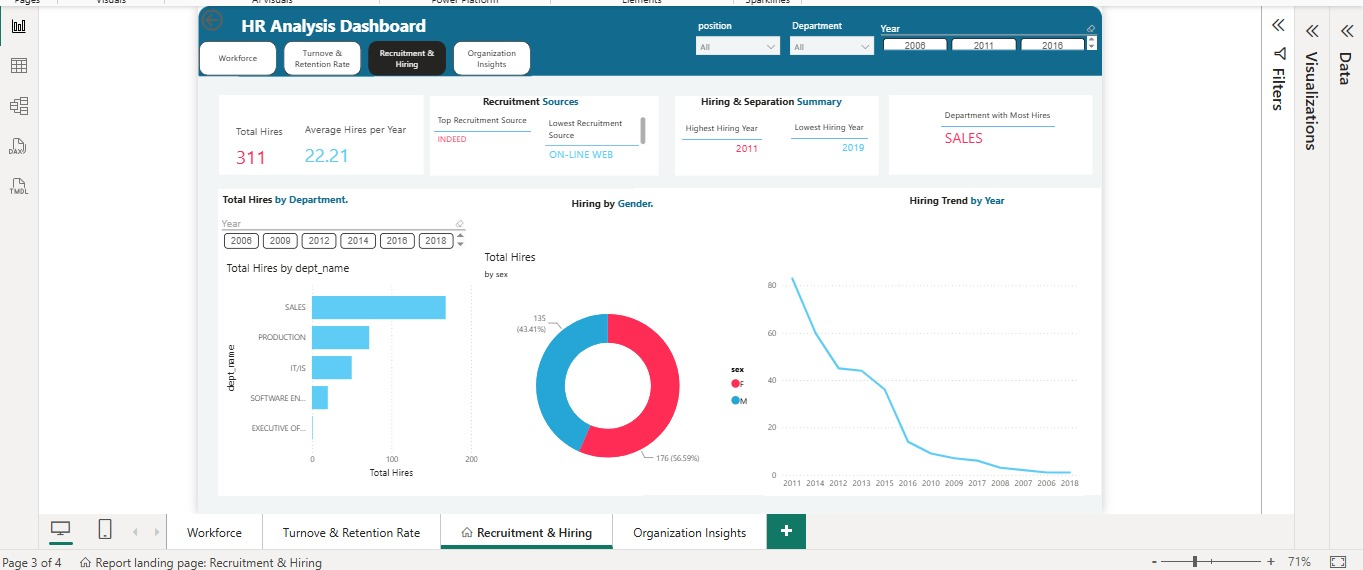

The dashboard page shown, as its layout file describes it:
{"tool":"powerbi","page":{"name":"Recruitment & Hiring","canvas":[1280,720],"ordinal":2},"visuals":[{"type":"shape","box":[618,258,661.9,435.1],"z":0},{"type":"shape","box":[28.9,258.7,602.6,435.2],"z":1000},{"type":"shape","box":[29.3,125.5,290.1,113],"z":2000},{"type":"lineChart","fields":{"Category":["Calendar_Hire.Year"],"Y":["fact_hr_snapshot.Total Hires"]},"box":[802.2,348.7,453.5,345.8],"z":3000},{"type":"donutChart","fields":{"Category":["dim_emp.sex"],"Y":["fact_hr_snapshot.Total Hires"]},"box":[384.3,348.6,398.6,345.7],"z":4000},{"type":"shape","box":[328.6,127.1,324.3,112.9],"z":5000},{"type":"shape","box":[675.7,127.1,288.6,112.9],"z":6000},{"type":"shape","box":[980,125.7,288.6,112.9],"z":7000},{"type":"Timeline1447991079100","fields":{"Time":["Calendar_Hire.Year"]},"box":[837.1,17.1,441.4,65.7],"z":8000},{"type":"textbox","box":[29.8,259.4,275,39.7],"z":9000},{"type":"textbox","box":[1003.5,260.8,276.4,39.7],"z":10000},{"type":"textbox","box":[384.3,120,174.3,40],"z":12000},{"type":"textbox","box":[680,120,264.3,40],"z":13000},{"type":"actionButton","box":[101.1,62.2,99.9,40],"z":14000},{"type":"slicer","fields":{"Values":["dim_position.position"]},"box":[514.3,14.3,138.6,71.4],"z":16000},{"type":"textbox","box":[57.2,5.6,344.5,58.6],"z":17000},{"type":"slicer","fields":{"Values":["dim_department.dept_name"]},"box":[675.7,14.3,138.6,71.4],"z":18000},{"type":"cardVisual","title":"Overall Retention Rate","fields":{"Data":["fact_hr_snapshot.Total Hires"]},"box":[22.7,158.7,161.6,76.5],"z":19000},{"type":"ChicletSlicer1448559807354","fields":{"Category":["dim_department.dept_name"]},"box":[28.6,295.7,355.7,52.9],"z":20000},{"type":"clusteredBarChart","fields":{"Category":["dim_department.dept_name"],"Y":["fact_hr_snapshot.Total Hires"]},"box":[35.7,360,365.7,314.3],"z":21000},{"type":"actionButton","box":[0,0,100,40],"z":22000},{"type":"textbox","box":[524.4,265,219.7,31.2],"z":23000},{"type":"tableEx","fields":{"Values":["fact_hr_snapshot.Highest Hiring Year"]},"box":[680,158.6,134.3,60],"z":24000},{"type":"tableEx","fields":{"Values":["fact_hr_snapshot.Lowest Hiring Year"]},"box":[834.3,157.1,130,61.4],"z":25000},{"type":"cardVisual","fields":{"Data":["fact_hr_snapshot.Average Hires per Year"]},"box":[190,160,122.9,71.4],"z":26000},{"type":"Timeline1447991079100","box":[837.1,17.1,441.4,65.7],"z":27000},{"type":"tableEx","fields":{"Values":["fact_hr_snapshot.Department with Most Hires"]},"box":[1047.1,140,188.6,71.4],"z":28000},{"type":"tableEx","fields":{"Values":["fact_hr_snapshot.Top Recruitment Source"]},"box":[485.7,151.4,154.3,77.1],"z":29000},{"type":"tableEx","fields":{"Values":["fact_hr_snapshot.Lowest Recruitment Source"]},"box":[328.6,147.1,162.9,88.6],"z":30000}]}

Visuals, with their boxes on the page's 1280x720 design canvas (x1, y1, x2, y2). These are canvas units, not pixel positions in the 1363x570 screenshot, which may show the page scaled, cropped or inside an application window:
shape: bbox(618, 258, 1280, 693)
shape: bbox(29, 259, 632, 694)
shape: bbox(29, 126, 319, 238)
lineChart - Calendar_Hire.Year x fact_hr_snapshot.Total Hires: bbox(802, 349, 1256, 694)
donutChart - dim_emp.sex x fact_hr_snapshot.Total Hires: bbox(384, 349, 783, 694)
shape: bbox(329, 127, 653, 240)
shape: bbox(676, 127, 964, 240)
shape: bbox(980, 126, 1269, 239)
Timeline1447991079100 - Calendar_Hire.Year: bbox(837, 17, 1278, 83)
textbox: bbox(30, 259, 305, 299)
textbox: bbox(1004, 261, 1280, 300)
textbox: bbox(384, 120, 559, 160)
textbox: bbox(680, 120, 944, 160)
actionButton: bbox(101, 62, 201, 102)
slicer - dim_position.position: bbox(514, 14, 653, 86)
textbox: bbox(57, 6, 402, 64)
slicer - dim_department.dept_name: bbox(676, 14, 814, 86)
"Overall Retention Rate" cardVisual: bbox(23, 159, 184, 235)
ChicletSlicer1448559807354 - dim_department.dept_name: bbox(29, 296, 384, 349)
clusteredBarChart - dim_department.dept_name x fact_hr_snapshot.Total Hires: bbox(36, 360, 401, 674)
actionButton: bbox(0, 0, 100, 40)
textbox: bbox(524, 265, 744, 296)
tableEx - fact_hr_snapshot.Highest Hiring Year: bbox(680, 159, 814, 219)
tableEx - fact_hr_snapshot.Lowest Hiring Year: bbox(834, 157, 964, 218)
cardVisual - fact_hr_snapshot.Average Hires per Year: bbox(190, 160, 313, 231)
Timeline1447991079100: bbox(837, 17, 1278, 83)
tableEx - fact_hr_snapshot.Department with Most Hires: bbox(1047, 140, 1236, 211)
tableEx - fact_hr_snapshot.Top Recruitment Source: bbox(486, 151, 640, 228)
tableEx - fact_hr_snapshot.Lowest Recruitment Source: bbox(329, 147, 492, 236)
